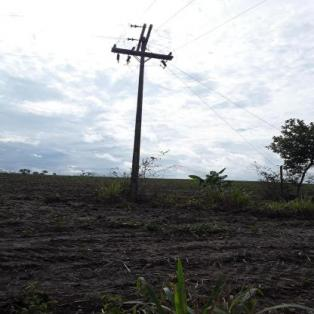Poste: (126, 34, 149, 197)
